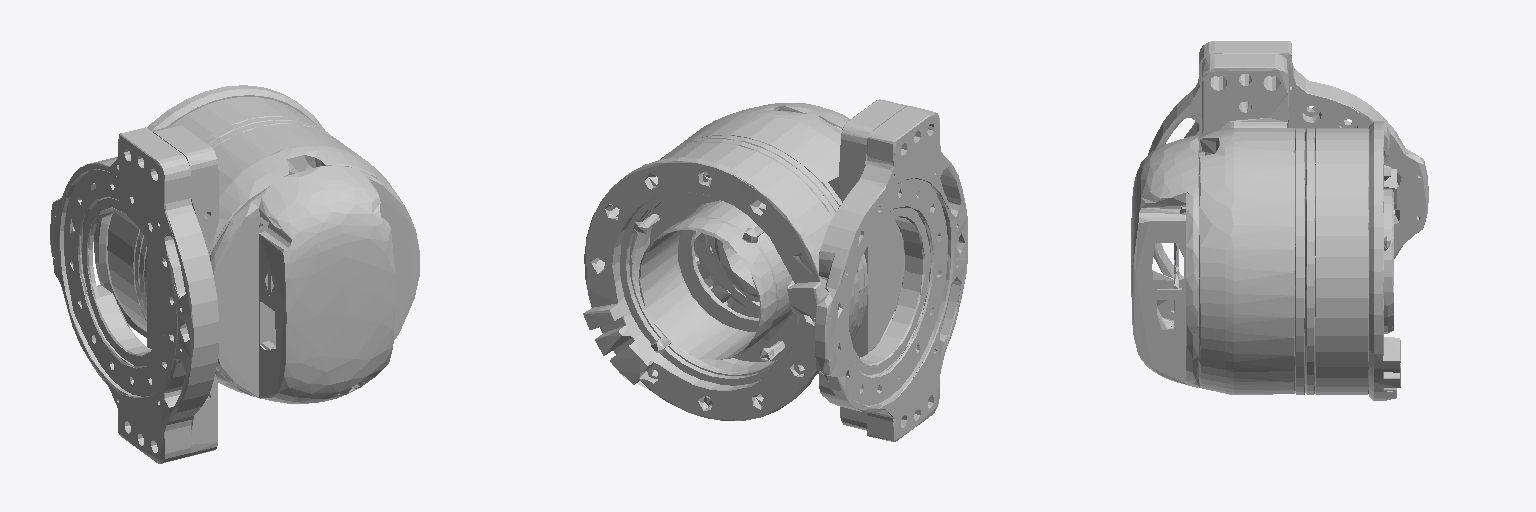
Rendered from right_thigh_roll_link.obj.
3 renders of one model, left to right at view 1: azimuth 30°, elevation 25°; view 2: azimuth 150°, elevation 25°; view 3: azimuth 270°, elevation 25°, orthographic.
Parts seen in each view (by area): view 1: right_thigh_roll_link; view 2: right_thigh_roll_link; view 3: right_thigh_roll_link.
Part boxes in pixels (x1,y1,x2,y2): right_thigh_roll_link: (50,85,419,463); right_thigh_roll_link: (583,99,967,441); right_thigh_roll_link: (1131,41,1428,400).
Bounding box in the file's own units: 0.0915 × 0.1 × 0.0892.